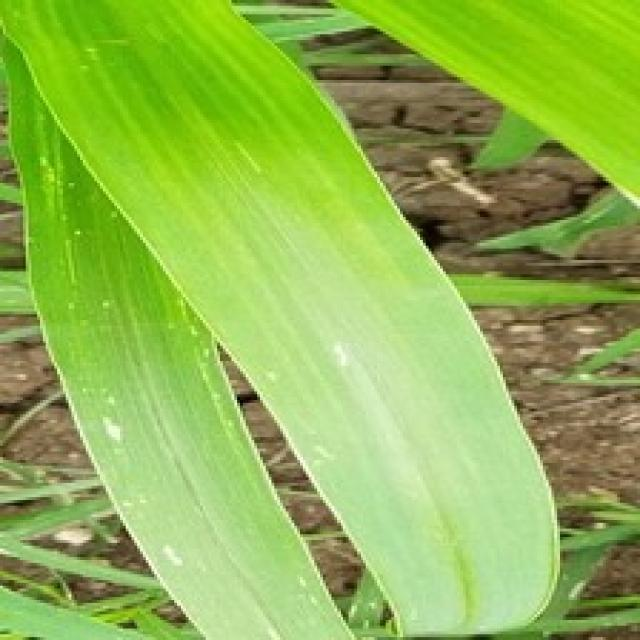Corn: (0, 0, 637, 637), (272, 0, 637, 260)
